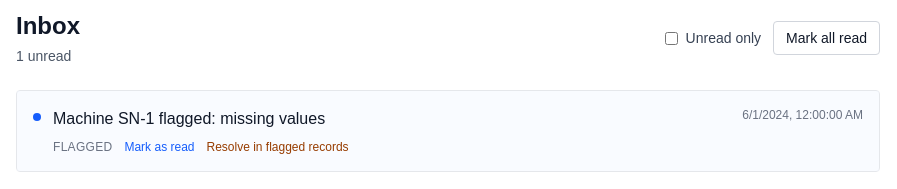
Test case: InboxPage › offers mark-all-read while unread notifications remain
Click the button "Mark all read". click: (827, 38)
box: [773,21,880,55]
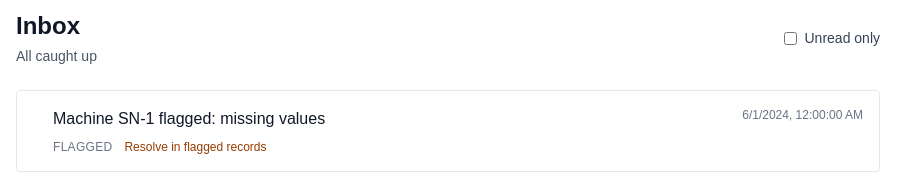
Expected: the button "Mark all read" is gone
